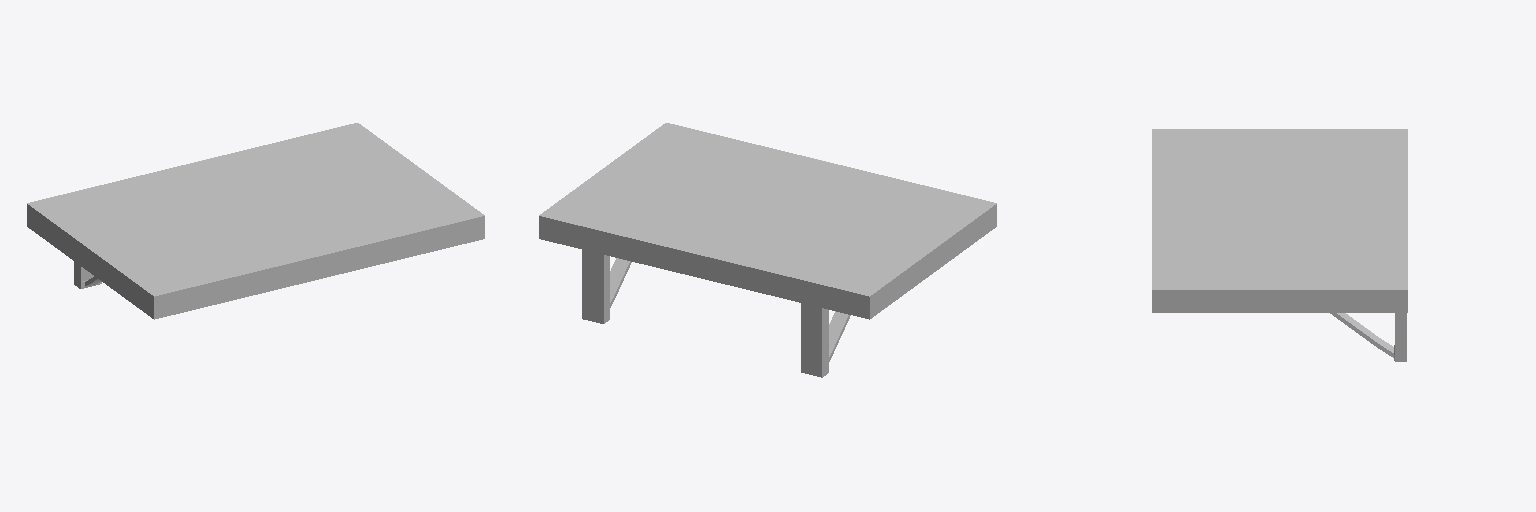
The model's file is WallShelf.obj.
3 views of the same model, side by side, from view 1: azimuth 30°, elevation 25°; view 2: azimuth 150°, elevation 25°; view 3: azimuth 270°, elevation 25° (orthographic).
Visible parts, largest first — view 1: pCube1; view 2: pCube1, pCube4, pCube3; view 3: pCube1, pCube4.
Part boxes in pixels (x1,y1,x2,y2): pCube1: (27, 123, 484, 319); pCube1: (539, 123, 996, 319); pCube4: (582, 250, 631, 323); pCube3: (801, 303, 850, 377); pCube1: (1152, 129, 1407, 312); pCube4: (1330, 313, 1406, 361).
Bounding box in the file's own units: 3 × 0.8042 × 2.